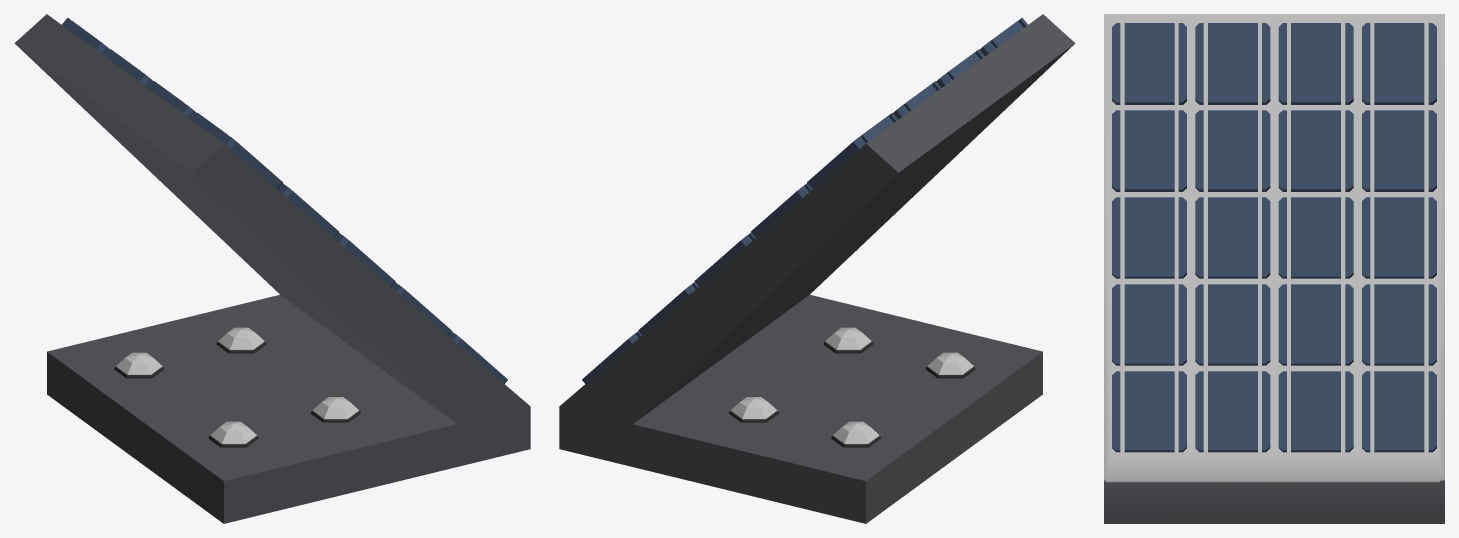
The model's file is b0ee1d3a-0551-4e2d-b70d-d4fab520d9df.glb.
3 renders of one model, left to right at view 1: azimuth 30°, elevation 25°; view 2: azimuth 150°, elevation 25°; view 3: azimuth 270°, elevation 25°, orthographic. The views are drawn at different scales.
Parts seen in each view (by area): view 1: Solar_battery1; view 2: Solar_battery1; view 3: Solar_battery1.
Part boxes in pixels (x1,y1,x2,y2): Solar_battery1: (14,14,530,523); Solar_battery1: (559,14,1075,523); Solar_battery1: (1104,14,1444,523).
Size of the model in its own units: 597 by 640 by 540.
Materials: 1 (1 with a texture image).
